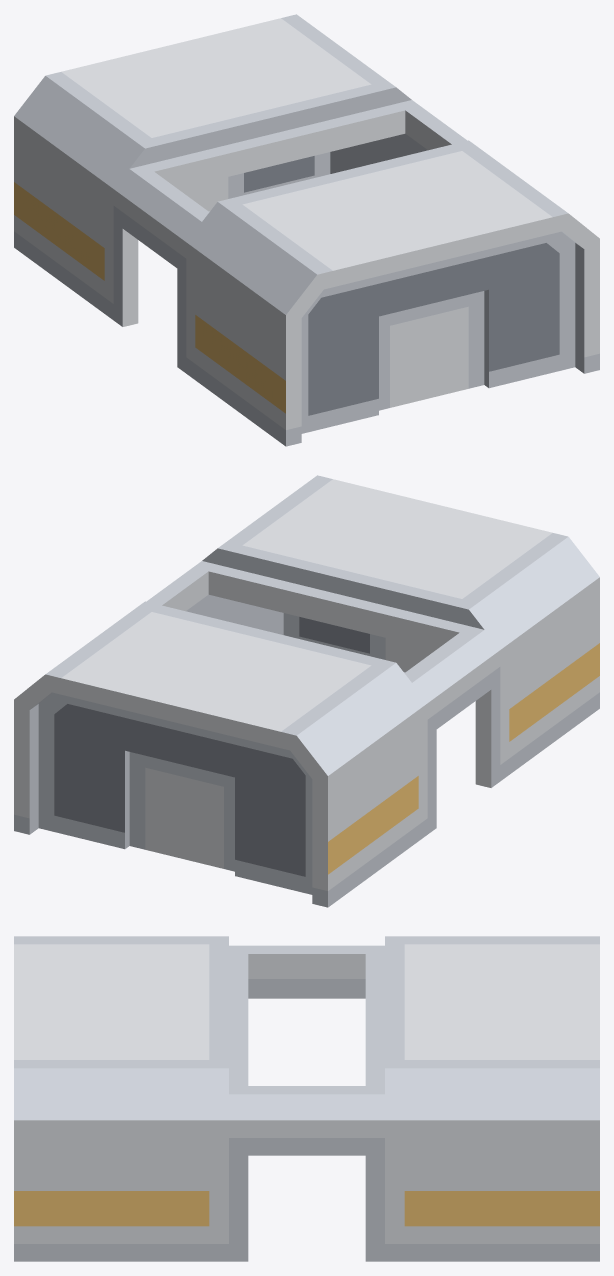
Rendered from hangar_largeA.glb.
3 views of the same model, one above another, from view 1: azimuth 30°, elevation 25°; view 2: azimuth 150°, elevation 25°; view 3: azimuth 270°, elevation 25° (orthographic). The views are drawn at different scales.
Visible parts, largest first — view 1: hangar_largeA; view 2: hangar_largeA; view 3: hangar_largeA.
Boxes of the visible parts, bbox=[...] form: hangar_largeA: bbox=[14, 14, 599, 446]; hangar_largeA: bbox=[14, 475, 599, 907]; hangar_largeA: bbox=[14, 936, 599, 1261].
Size of the model in its own units: 2 by 1 by 3.
